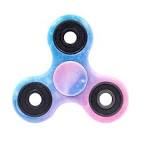fidget_spinner: (7, 7, 135, 126)
